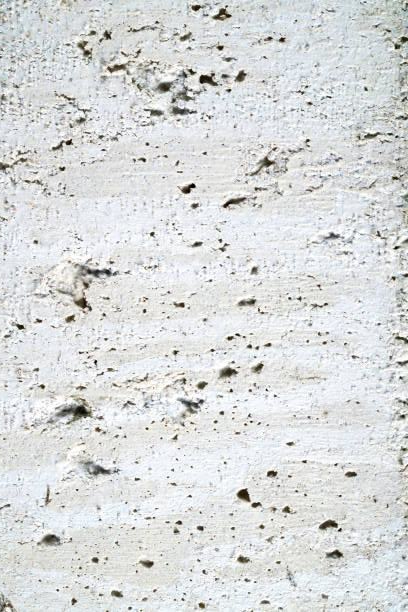Spalling: (1, 1, 408, 612)
